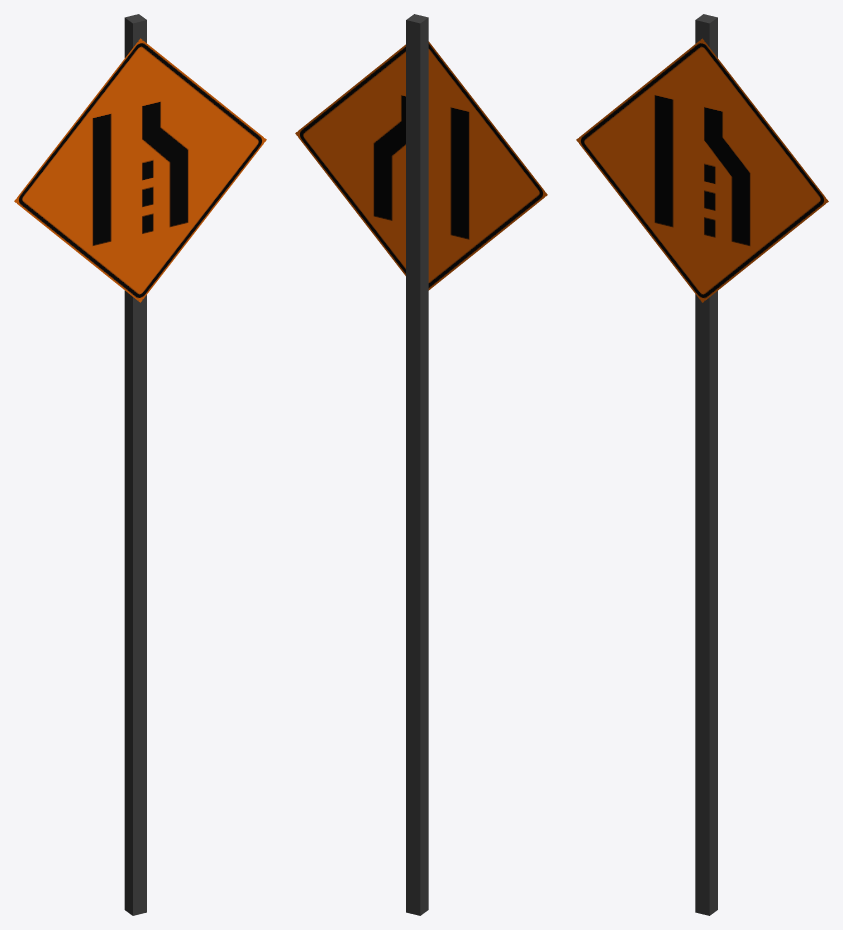
File: Narrow path sign.fbx
The picture shows the model from 3 angles, left to right: view 1: azimuth 30°, elevation 25°; view 2: azimuth 150°, elevation 25°; view 3: azimuth 330°, elevation 25°; orthographic projection.
Parts seen in each view (by area): view 1: Plane001; view 2: Plane001; view 3: Plane001.
Boxes of the visible parts, x1,y1,x2,y2 form: Plane001: [14, 14, 266, 915]; Plane001: [295, 14, 547, 915]; Plane001: [576, 14, 828, 915].
Bounding box in the file's own units: 56.57 × 191 × 3.28.
Materials: 2 (1 with a texture image).
